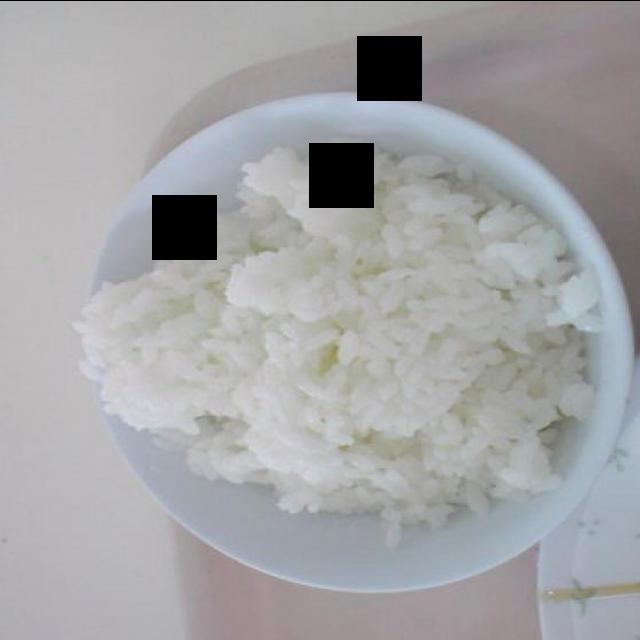rice: (73, 136, 615, 542)
